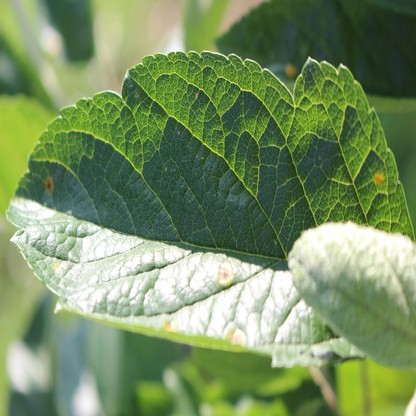rust: (219, 260, 234, 286), (230, 326, 245, 345), (45, 174, 54, 195), (373, 173, 384, 185), (165, 322, 176, 332), (285, 64, 295, 75), (52, 263, 59, 270)
